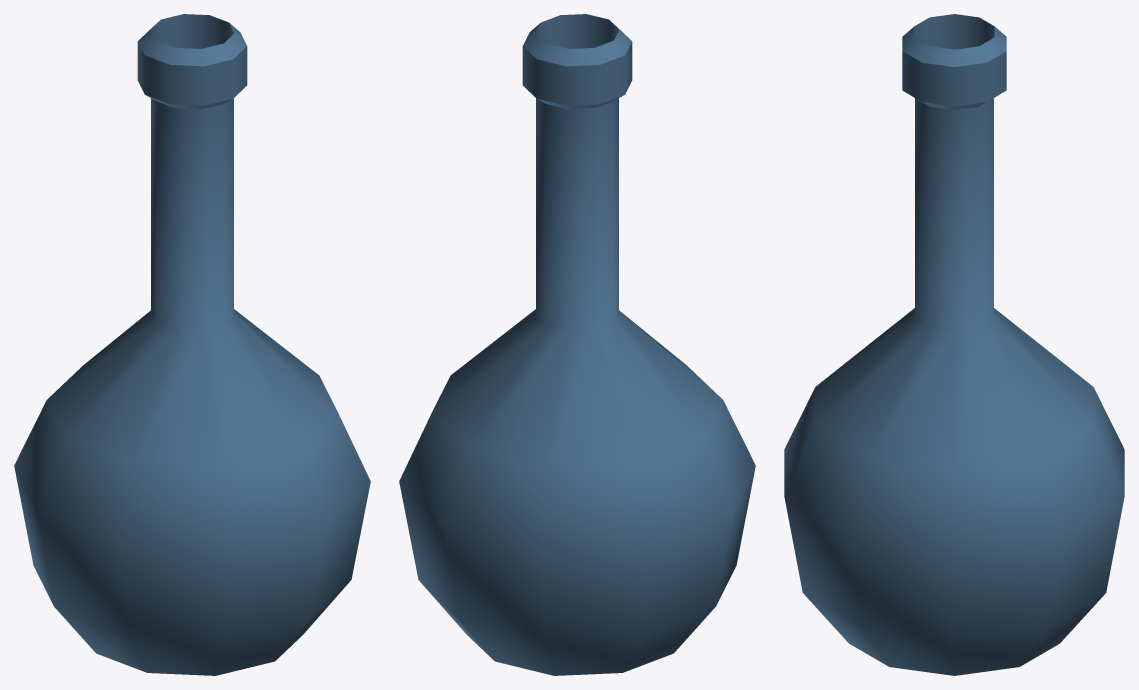
3 views of the same model, side by side, from view 1: azimuth 30°, elevation 25°; view 2: azimuth 150°, elevation 25°; view 3: azimuth 270°, elevation 25° (orthographic).
Visible parts, largest first — view 1: Cylinder04; view 2: Cylinder04; view 3: Cylinder04.
Boxes of the visible parts, bbox=[...] form: Cylinder04: bbox=[14, 14, 370, 675]; Cylinder04: bbox=[399, 14, 755, 675]; Cylinder04: bbox=[784, 14, 1124, 675].
Size of the model in its own units: 3.29 by 6.05 by 3.13.
